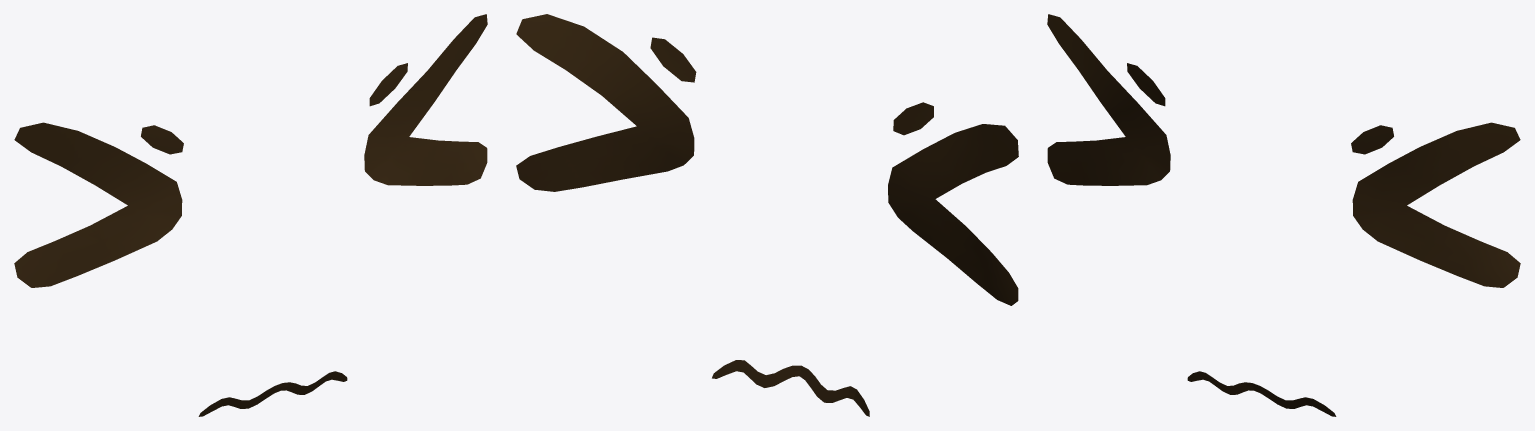
The model's file is Face Damaged.fbx.
3 views of the same model, side by side, from view 1: azimuth 30°, elevation 25°; view 2: azimuth 150°, elevation 25°; view 3: azimuth 330°, elevation 25° (orthographic). The views are drawn at different scales.
Visible parts, largest first — view 1: Plane.002; view 2: Plane.002; view 3: Plane.002.
Part boxes in pixels (bbox=[...]): Plane.002: bbox=[14, 14, 487, 416]; Plane.002: bbox=[516, 14, 1018, 416]; Plane.002: bbox=[1047, 14, 1520, 416].
Bounding box in the file's own units: 33.16 × 21.37 × 3.89.
Materials: 1 (1 with a texture image).
